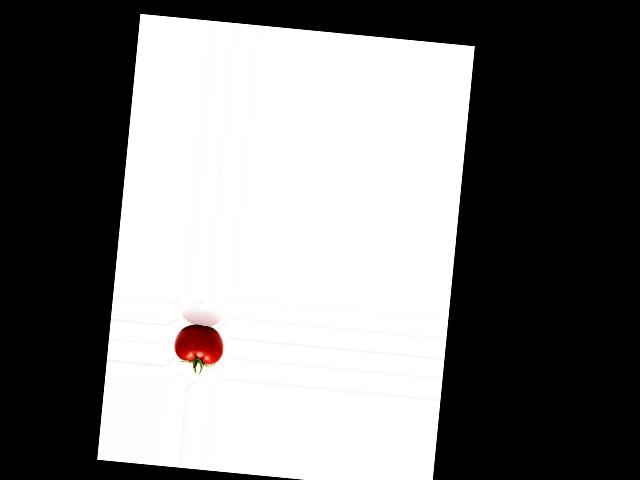tomato: (172, 322, 225, 365)
